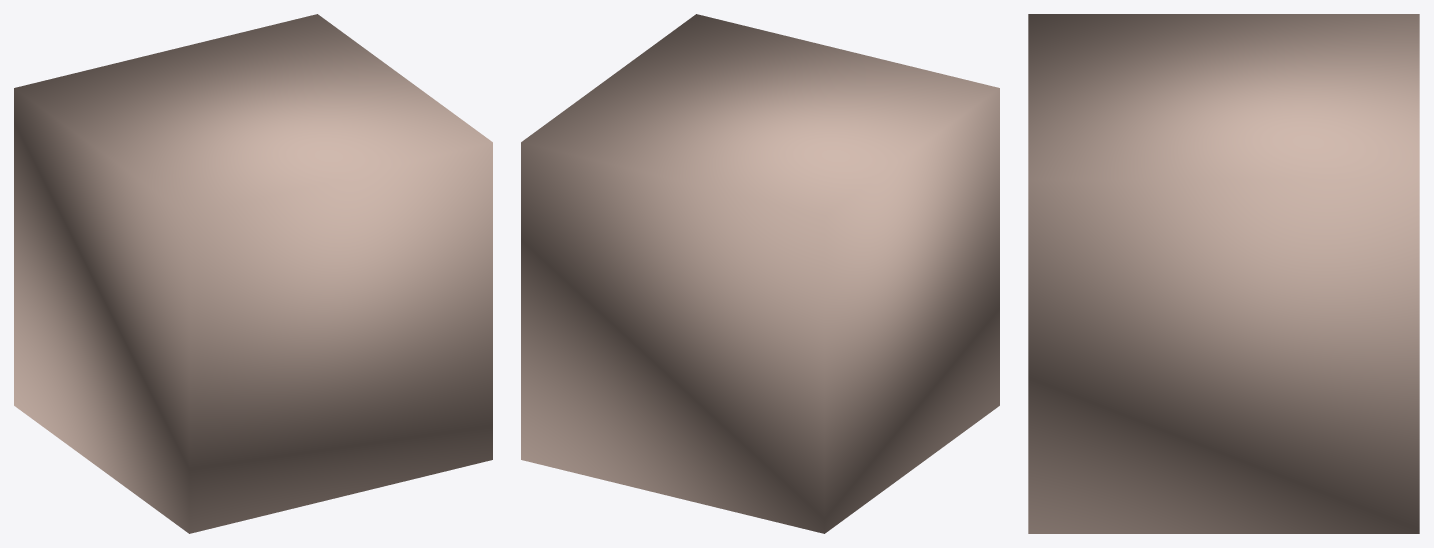
File: katana.obj
The picture shows the model from 3 angles, left to right: view 1: azimuth 30°, elevation 25°; view 2: azimuth 150°, elevation 25°; view 3: azimuth 270°, elevation 25°; orthographic projection. The views are drawn at different scales.
Visible parts, largest first — view 1: 立方体.003; view 2: 立方体.003; view 3: 立方体.003.
Part boxes in pixels (bbox=[...]): 立方体.003: bbox=[14, 14, 492, 533]; 立方体.003: bbox=[521, 14, 999, 533]; 立方体.003: bbox=[1028, 14, 1419, 533].
Bounding box in the file's own units: 17.3 × 17.3 × 17.3.
